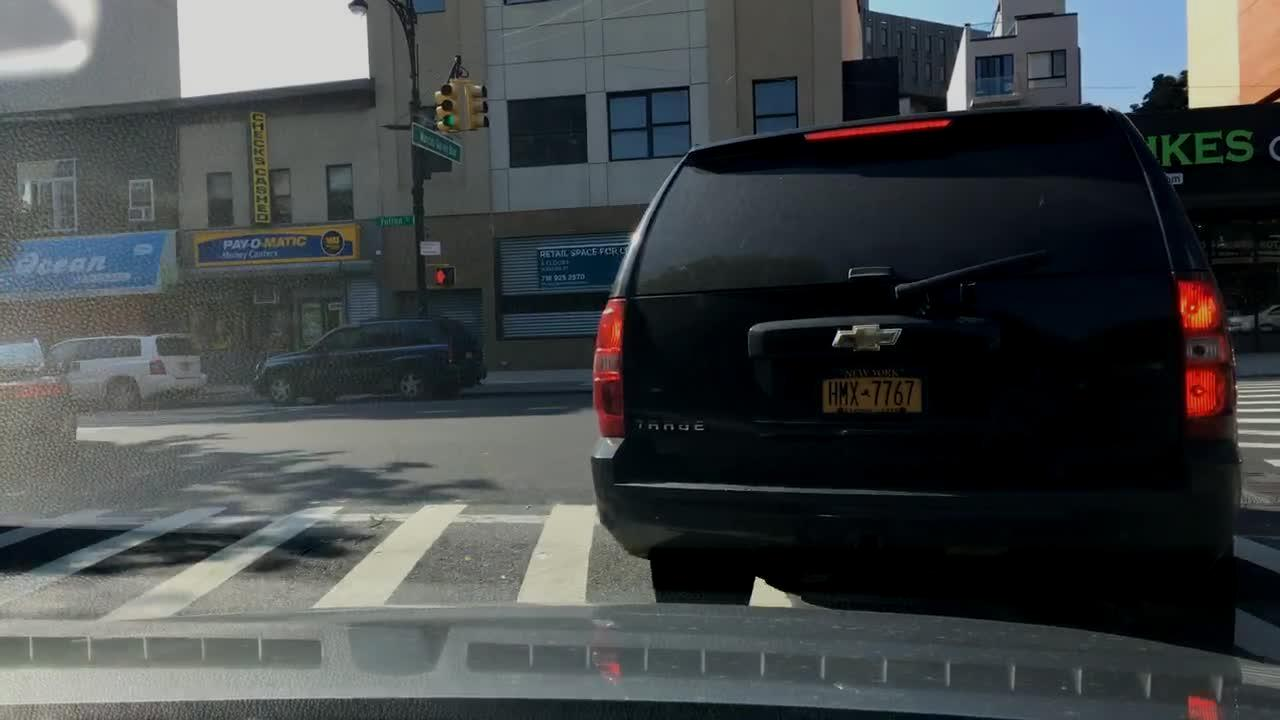chevrolet: (823, 313, 918, 364)
